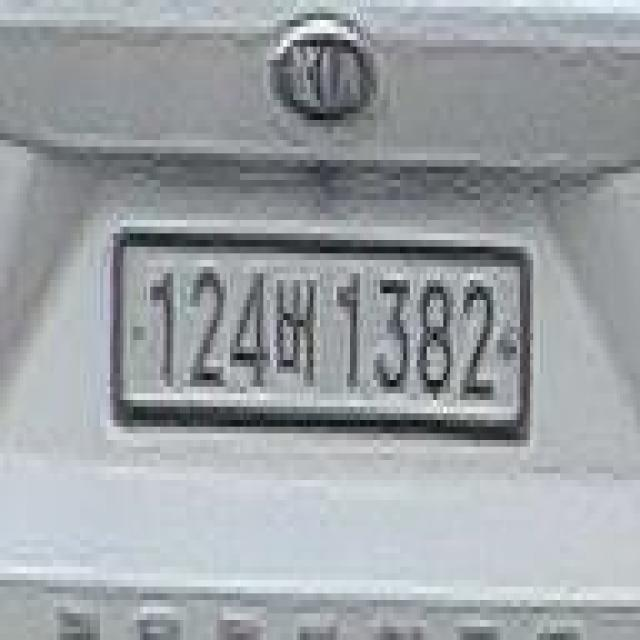illegal_plate: (107, 219, 538, 462)
